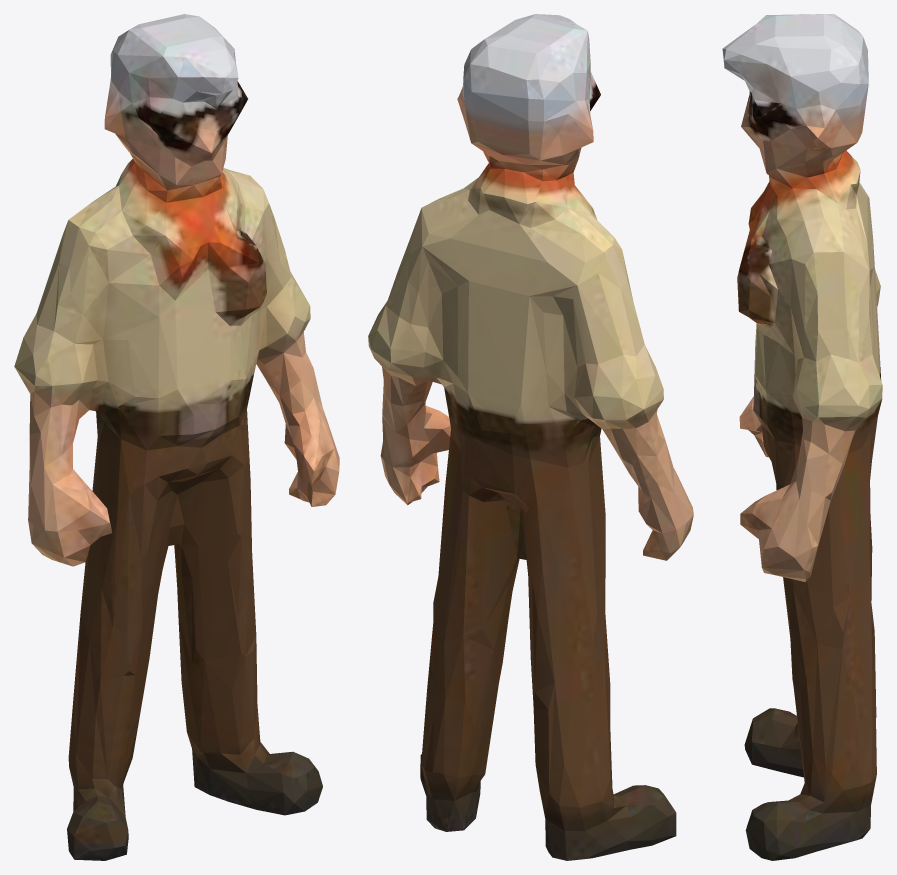
File: habitant-loin.glb
The picture shows the model from 3 angles, left to right: view 1: azimuth 30°, elevation 25°; view 2: azimuth 150°, elevation 25°; view 3: azimuth 270°, elevation 25°; orthographic projection.
Visible parts, largest first — view 1: habitant; view 2: habitant; view 3: habitant.
Boxes of the visible parts, <box> form: habitant: <box>14,14,339,860</box>; habitant: <box>368,14,693,860</box>; habitant: <box>722,14,882,860</box>.
Bounding box in the file's own units: 0.3986 × 1.01 × 0.1876.
Materials: 1 (1 with a texture image).
